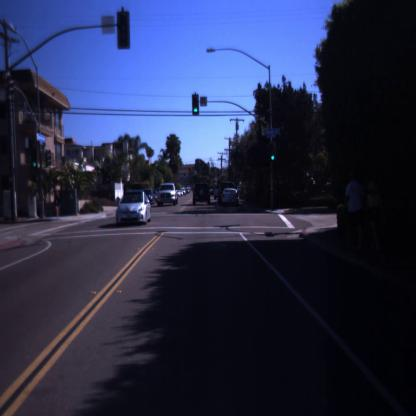trafficlight: (192, 91, 200, 116)
